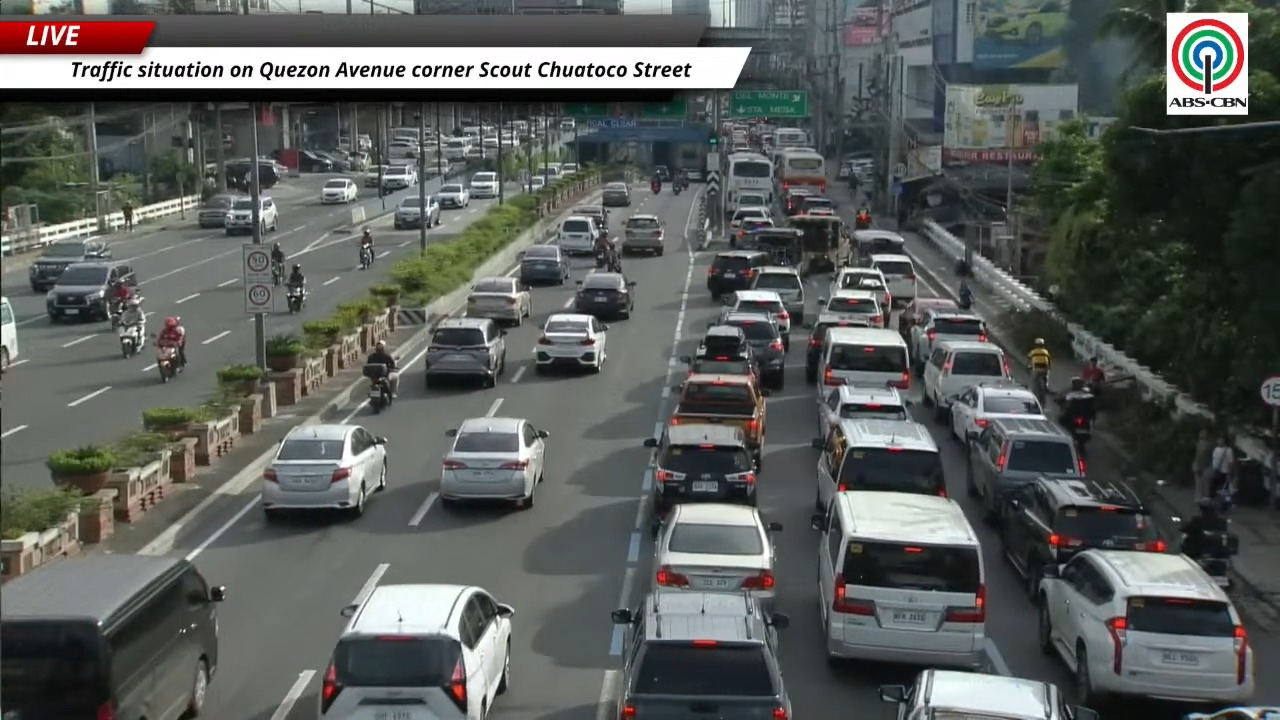bus: (725, 152, 772, 204), (776, 150, 826, 194), (0, 297, 19, 370), (774, 128, 809, 148)
car: (0, 553, 225, 719), (1038, 549, 1255, 704), (811, 491, 988, 670), (313, 583, 514, 719), (611, 588, 791, 719), (1001, 477, 1165, 599), (654, 503, 781, 608), (966, 417, 1085, 523), (811, 418, 946, 508), (260, 423, 386, 518), (644, 422, 758, 519), (879, 669, 1098, 719), (439, 418, 548, 508), (921, 340, 1010, 421), (950, 381, 1045, 443), (424, 318, 506, 388), (46, 261, 137, 321), (717, 312, 785, 390), (908, 310, 986, 375), (816, 385, 910, 437), (29, 238, 111, 292), (534, 313, 607, 372), (722, 290, 791, 350), (980, 0, 1069, 46), (805, 312, 861, 383), (680, 326, 757, 377), (828, 266, 892, 322), (750, 266, 805, 326), (465, 276, 531, 325), (706, 250, 769, 299), (573, 271, 635, 318), (898, 297, 958, 340), (820, 289, 884, 327), (682, 346, 757, 378), (870, 254, 917, 303), (518, 245, 570, 284), (620, 214, 664, 255), (555, 215, 599, 255), (856, 276, 891, 326), (393, 194, 441, 229), (695, 325, 749, 355), (851, 228, 904, 258), (197, 193, 236, 228), (572, 205, 608, 238), (729, 206, 772, 232), (224, 197, 254, 234), (298, 150, 340, 172), (381, 165, 416, 191), (321, 179, 357, 203), (436, 183, 470, 208), (782, 187, 812, 215), (470, 171, 499, 198), (364, 164, 389, 189), (801, 195, 835, 213), (733, 191, 769, 208), (388, 140, 418, 158), (525, 175, 546, 193), (481, 134, 499, 153), (653, 165, 671, 182), (685, 168, 704, 181), (561, 162, 578, 176)
motorcycle: (1192, 529, 1238, 588), (363, 363, 392, 412), (1069, 416, 1091, 459), (117, 323, 144, 358), (156, 345, 180, 382), (286, 285, 306, 314), (1031, 371, 1047, 405), (359, 245, 374, 269), (958, 286, 972, 310), (607, 252, 622, 273), (272, 262, 284, 286), (595, 248, 608, 268), (651, 182, 661, 193), (673, 183, 681, 195)
